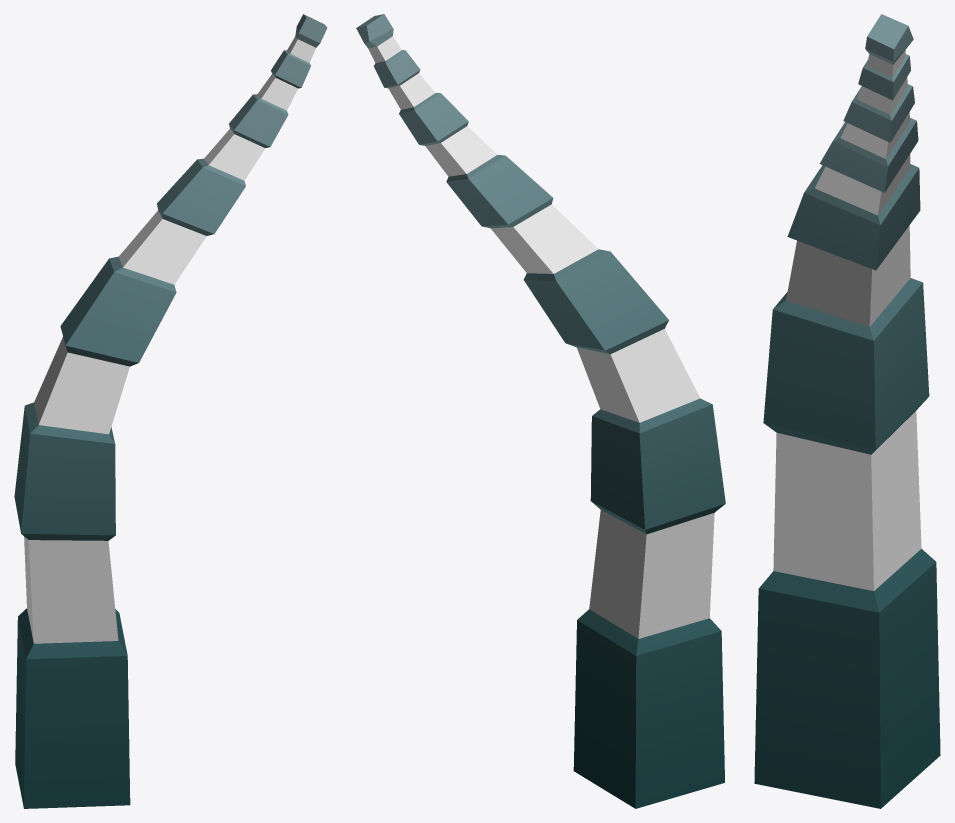
3 renders of one model, left to right at view 1: azimuth 30°, elevation 25°; view 2: azimuth 150°, elevation 25°; view 3: azimuth 270°, elevation 25°, orthographic. The views are drawn at different scales.
Parts seen in each view (by area): view 1: Cube.153; view 2: Cube.153; view 3: Cube.153.
Boxes of the visible parts, left/top/right/bottom form: Cube.153: left=14, top=14, right=327, bottom=808; Cube.153: left=356, top=14, right=725, bottom=808; Cube.153: left=754, top=14, right=940, bottom=808.
Size of the model in its own units: 8.21 by 16.41 by 3.03.
